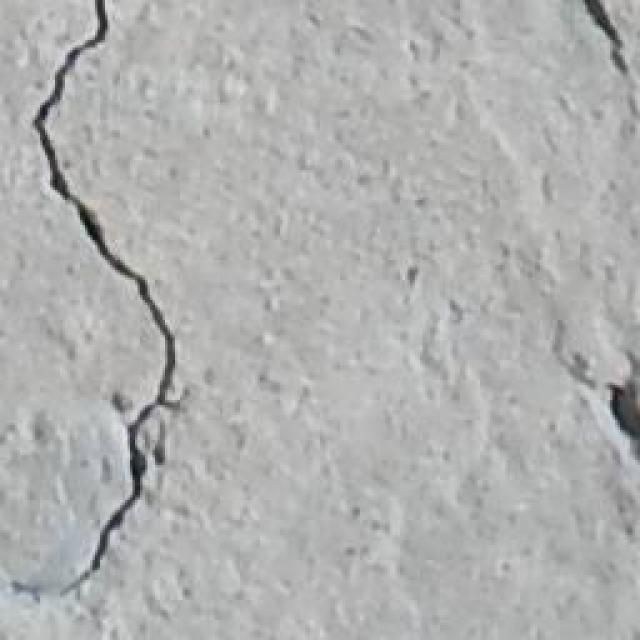concrete-crack: (32, 0, 175, 598), (580, 0, 635, 118), (605, 368, 640, 458)
